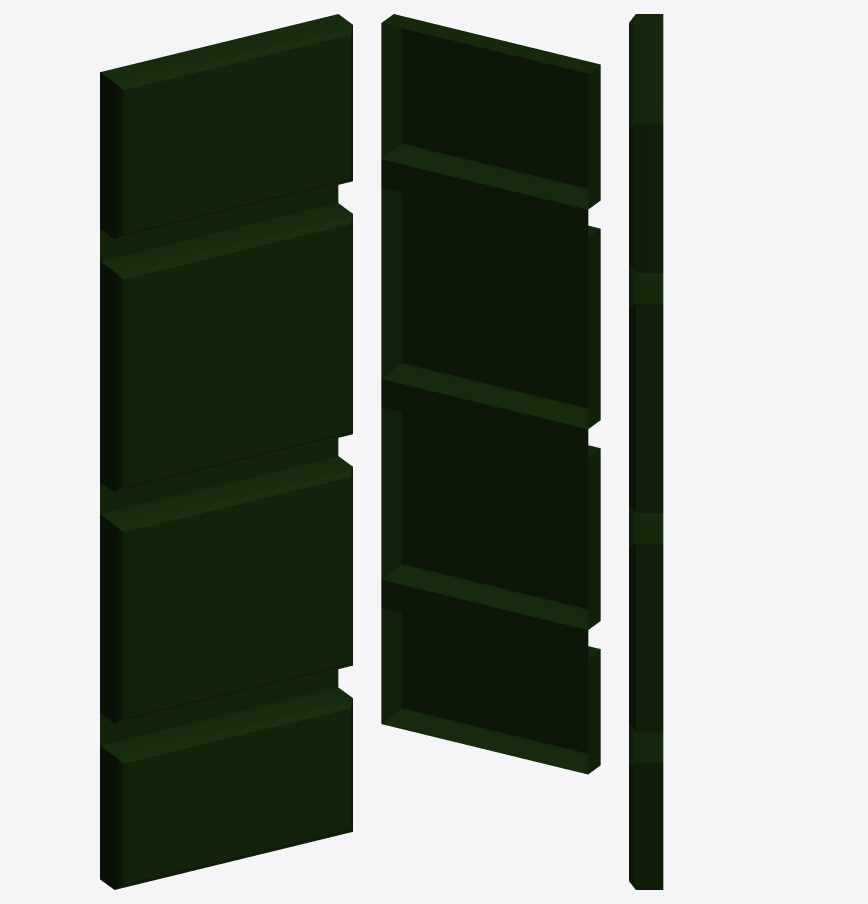
File: Fridge_14_Mesh_3_3.obj
3 renders of one model, left to right at view 1: azimuth 30°, elevation 25°; view 2: azimuth 150°, elevation 25°; view 3: azimuth 270°, elevation 25°, orthographic. The views are drawn at different scales.
Bounding box in the file's own units: 0.5387 × 1.88 × 0.4639.
